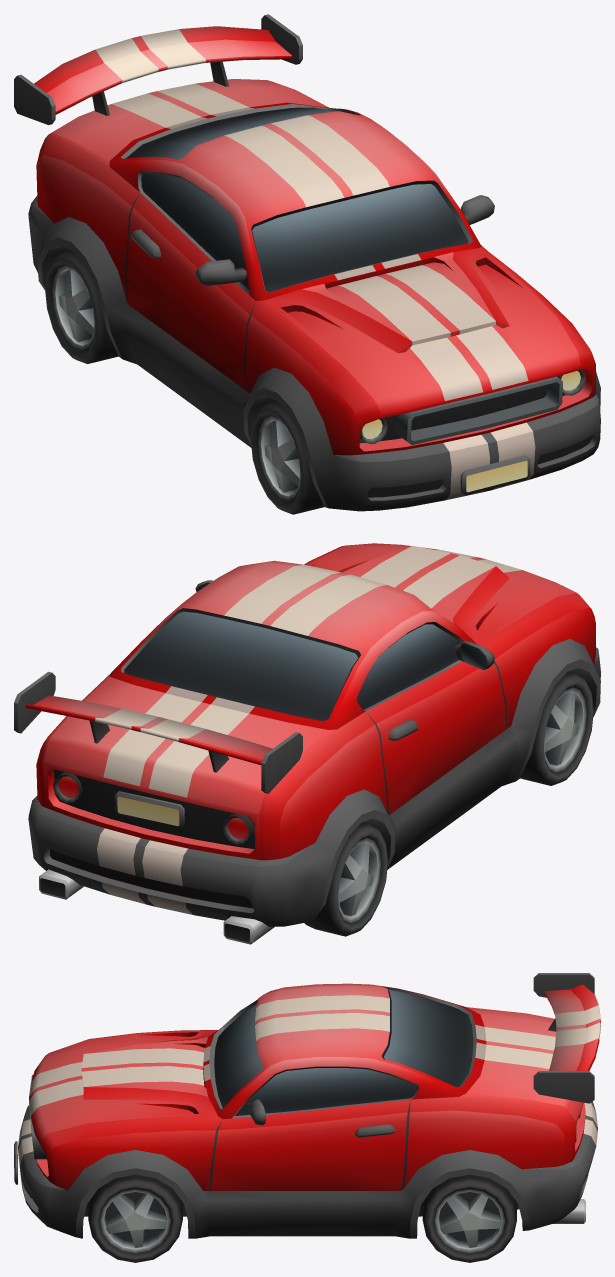
File: Car_6B.fbx
3 renders of one model, top to bottom at view 1: azimuth 30°, elevation 25°; view 2: azimuth 150°, elevation 25°; view 3: azimuth 270°, elevation 25°, orthographic. The views are drawn at different scales.
Visible parts, largest first — view 1: Car_6B, Wheel_6B_F.R, Wheel_6B_R.R; view 2: Car_6B, Wheel_6B_R.R, Wheel_6B_F.R; view 3: Car_6B, Wheel_6B_F.L, Wheel_6B_R.L.
Boxes of the visible parts, x1,y1,x2,y2 form: Car_6B: [14, 14, 600, 511]; Wheel_6B_F.R: [250, 400, 323, 514]; Wheel_6B_R.R: [45, 249, 118, 363]; Car_6B: [14, 543, 600, 944]; Wheel_6B_R.R: [304, 822, 387, 936]; Wheel_6B_F.R: [520, 671, 593, 785]; Car_6B: [14, 973, 600, 1238]; Wheel_6B_F.L: [88, 1174, 182, 1262]; Wheel_6B_R.L: [422, 1174, 516, 1262].
Size of the model in its own units: 2.46 by 1.93 by 5.22.
